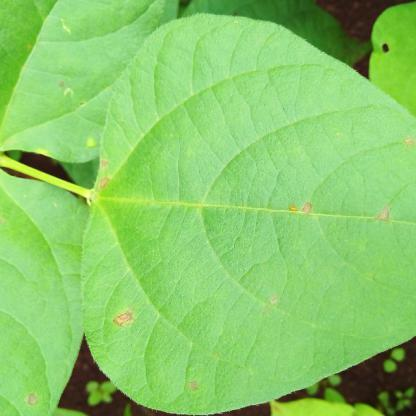Beans_Angular_LeafSpot: (89, 22, 416, 416), (0, 168, 88, 411)
